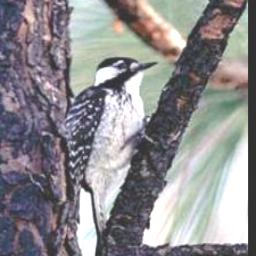Woodpecker: (64, 54, 162, 239)
